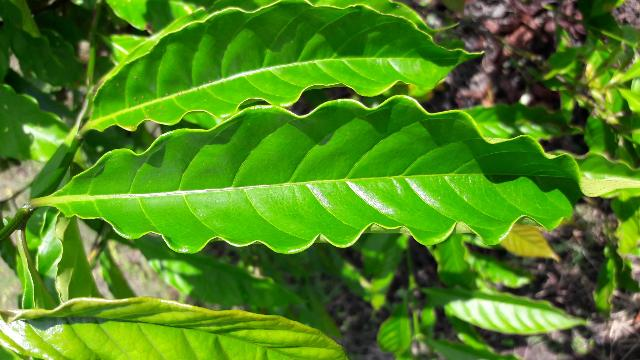healthy: (34, 95, 619, 253)
